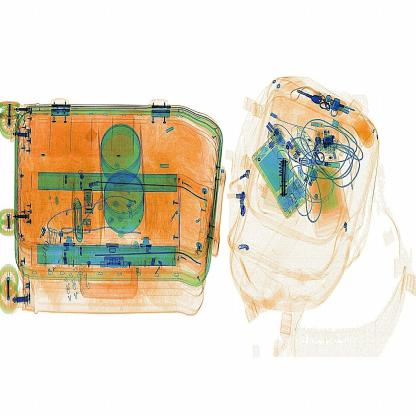scissors: (272, 153, 294, 205)
